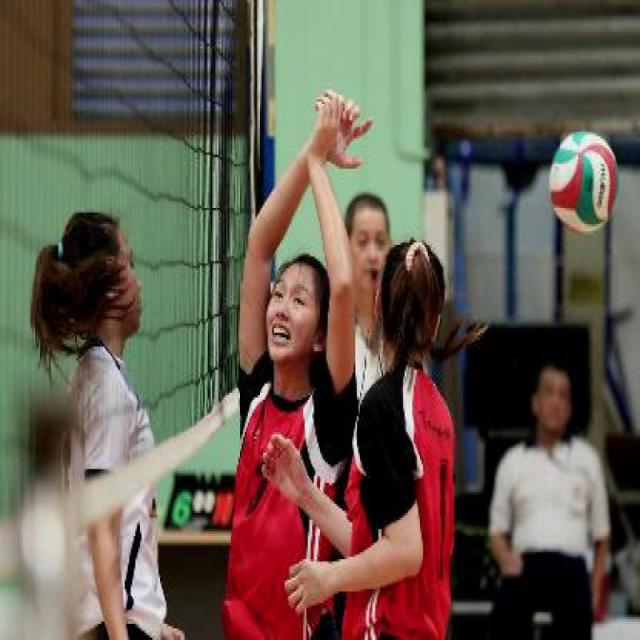volleyball: (548, 127, 620, 236)
